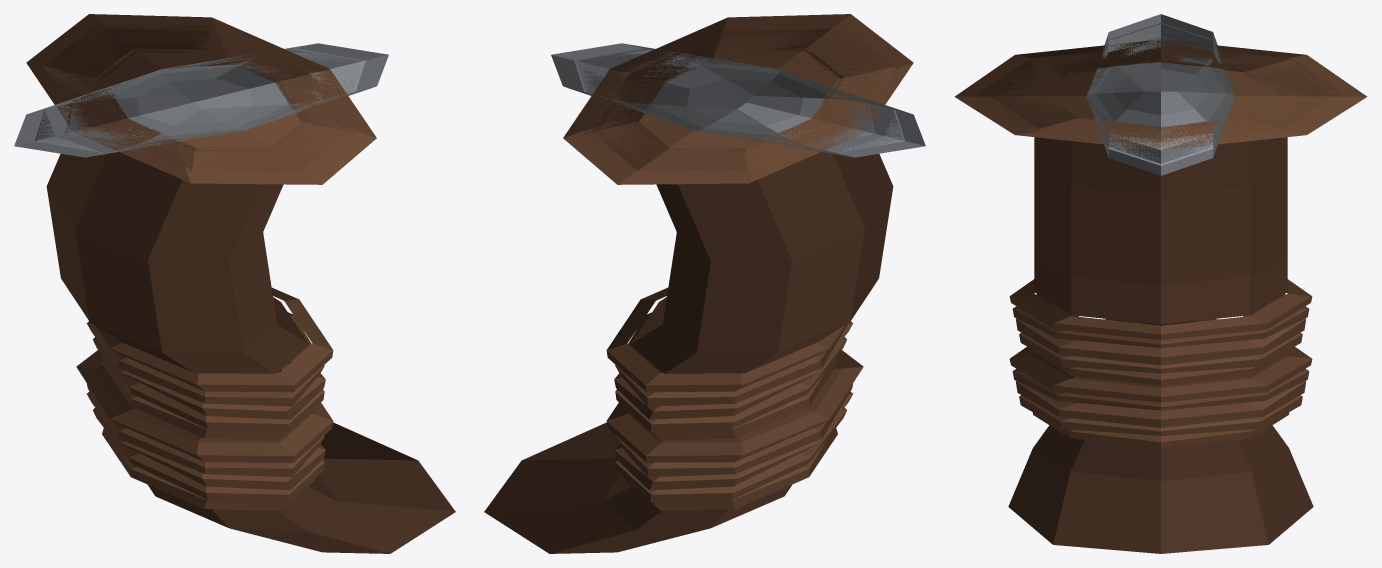
File: gild_spear.glb
3 views of the same model, side by side, from view 1: azimuth 30°, elevation 25°; view 2: azimuth 150°, elevation 25°; view 3: azimuth 270°, elevation 25° (orthographic). The views are drawn at different scales.
Size of the model in its own units: 2 by 2 by 2.
